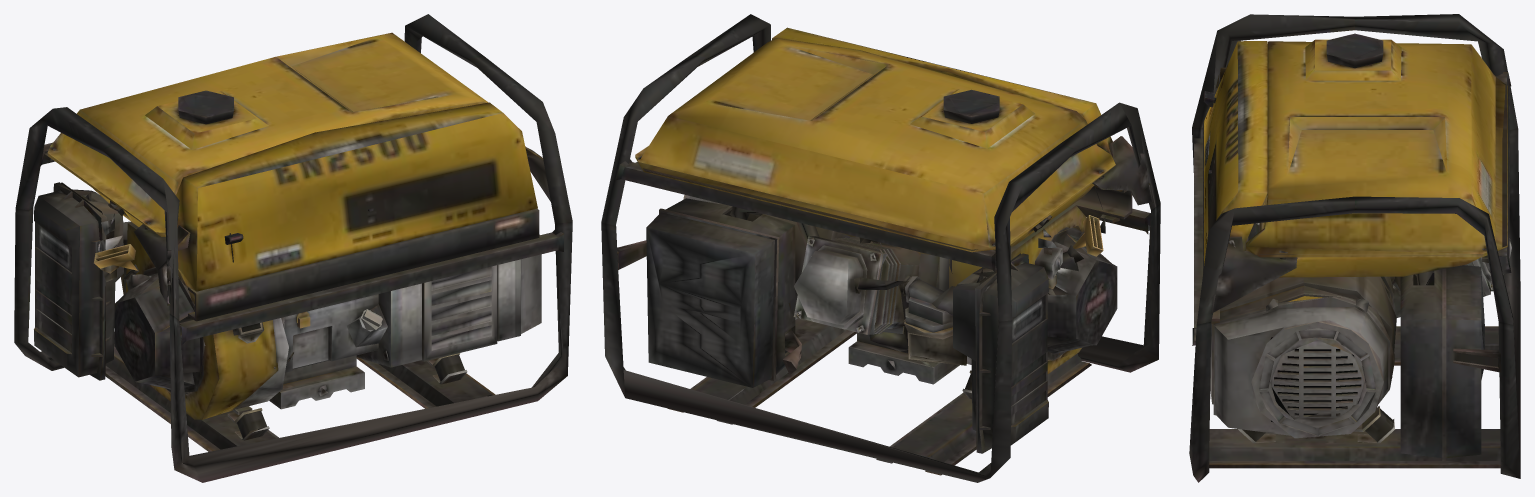
File: portable_generator.glb
The picture shows the model from 3 angles, left to right: view 1: azimuth 30°, elevation 25°; view 2: azimuth 150°, elevation 25°; view 3: azimuth 270°, elevation 25°; orthographic projection.
Parts seen in each view (by area): view 1: portable_generator; view 2: portable_generator; view 3: portable_generator.
Part boxes in pixels (bbox=[...]): portable_generator: bbox=[14, 14, 572, 482]; portable_generator: bbox=[601, 14, 1160, 482]; portable_generator: bbox=[1189, 14, 1520, 482].
Size of the model in its own units: 0.8146 by 0.5752 by 0.5591.
2 materials, 2 textured.
